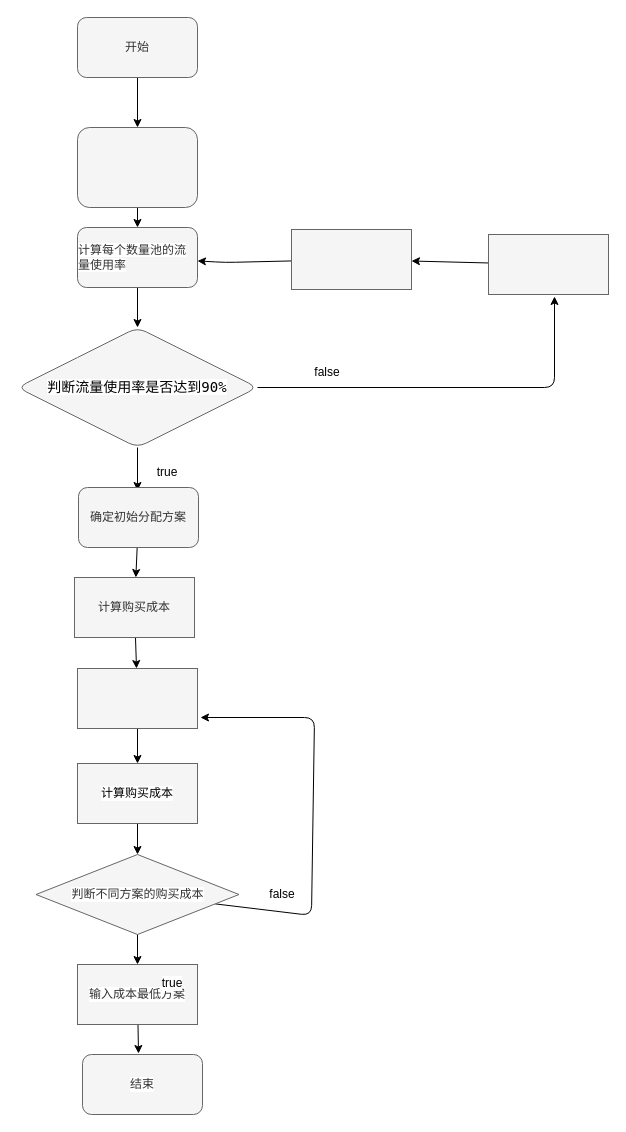
The diagram is 626 pixels wide and 1132 high, and some of its shapes have lost their labels. Each missing label, with the centre of its shape:
计算流量池调整量: the point at 548,264
调整分配方案: the point at 137,698
调整流量池分配: the point at 351,259
输入流量卡价格信息和客户使用流量数据: the point at 137,167
